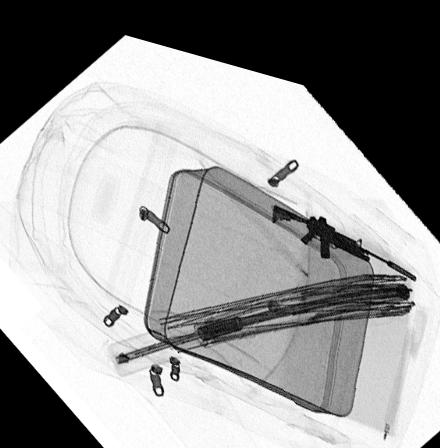Gun: (268, 187, 419, 258)
